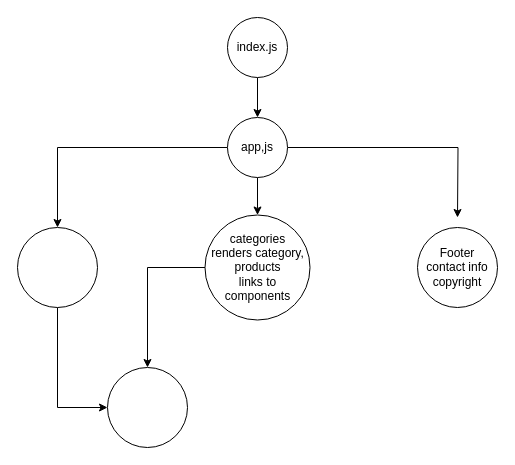
Some shapes in this 515 by 465 pixel diagram are drawn without their labels. Each missing label, with the box of its shape:
cart.js renders cart with items: (106, 366, 188, 448)
Header cart button: (16, 226, 98, 308)
